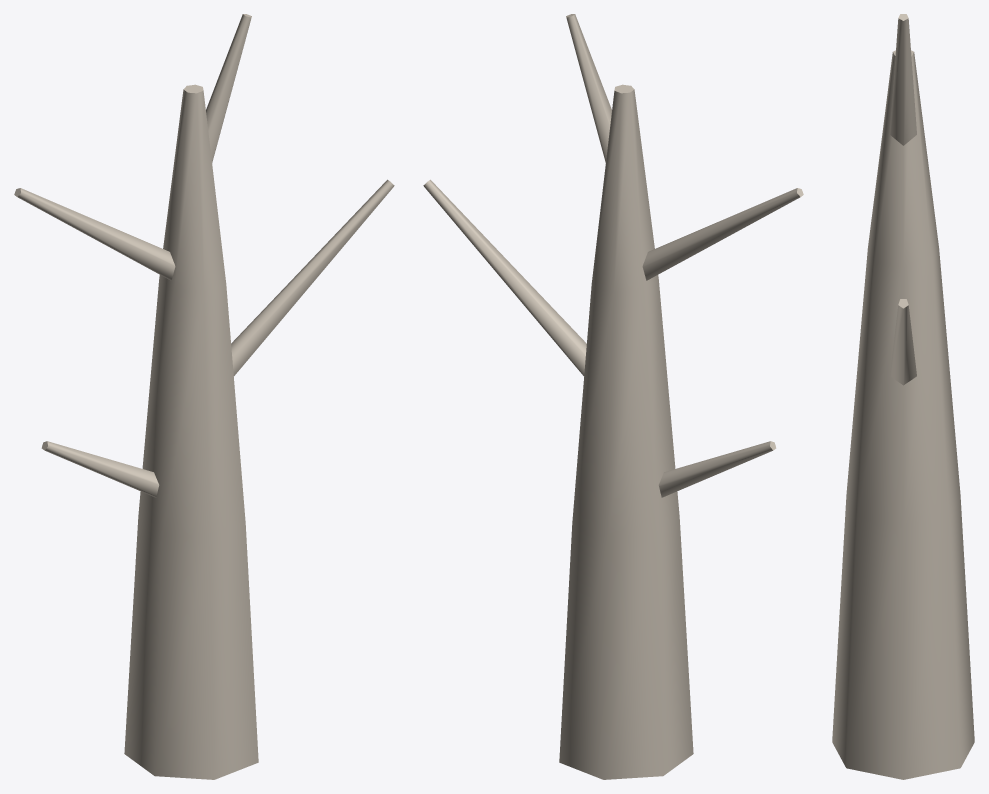
Rendered from dead_tree.glb.
3 renders of one model, left to right at view 1: azimuth 30°, elevation 25°; view 2: azimuth 150°, elevation 25°; view 3: azimuth 270°, elevation 25°, orthographic. The views are drawn at different scales.
Visible parts, largest first — view 1: dead_tree_m; view 2: dead_tree_m; view 3: dead_tree_m.
Boxes of the visible parts, x1,y1,x2,y2 form: dead_tree_m: (14, 14, 394, 779); dead_tree_m: (423, 14, 803, 779); dead_tree_m: (832, 14, 974, 779).
Bounding box in the file's own units: 2.51 × 4.59 × 0.7799.
